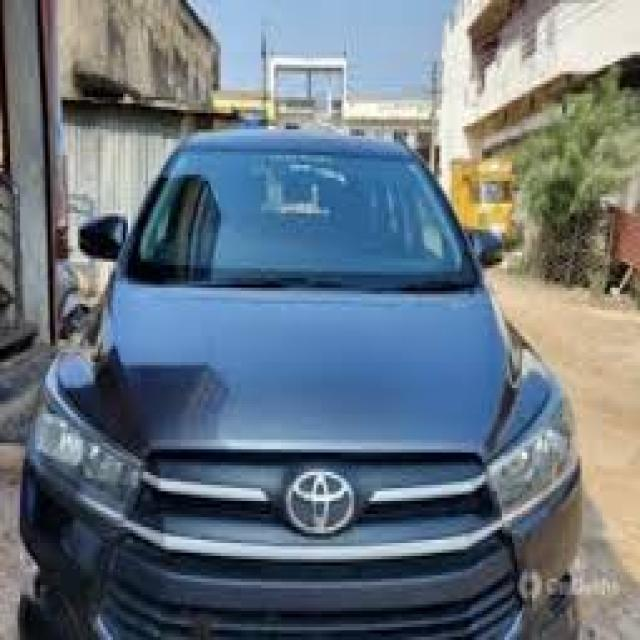light_vehicle: (19, 134, 582, 640)
